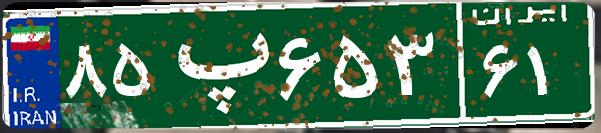1: (525, 38, 570, 115)
3: (385, 28, 445, 110)
5: (330, 28, 385, 110), (110, 28, 158, 105)
6: (273, 28, 330, 110), (475, 38, 525, 113)
8: (57, 26, 110, 107)
پ: (158, 15, 273, 115)
